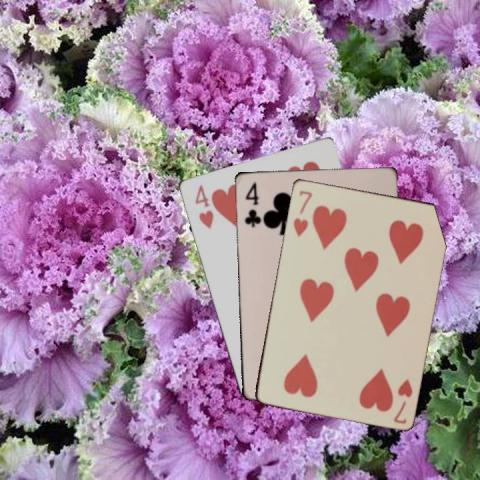4c: (241, 178, 261, 228)
4h: (192, 181, 214, 230)
7h: (390, 375, 414, 425), (290, 187, 313, 238)
